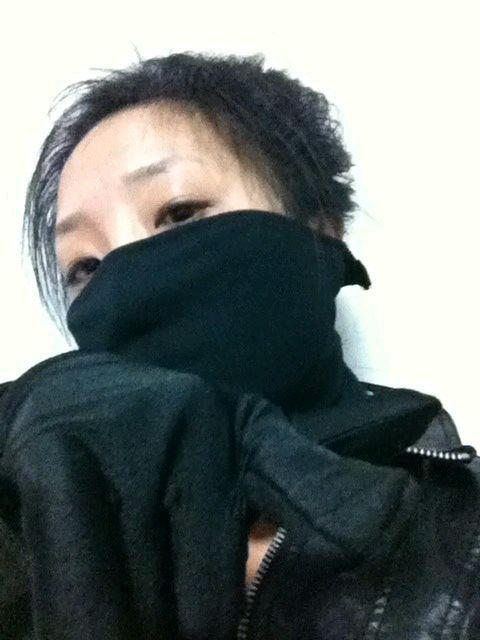OK: (44, 164, 301, 401)
